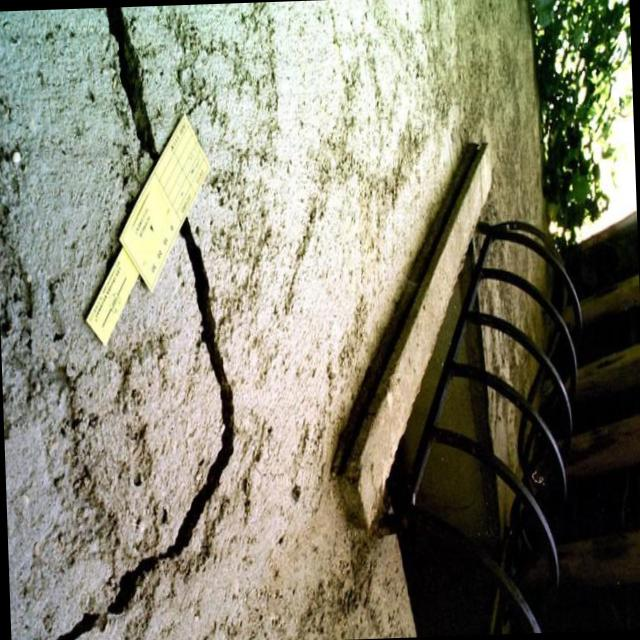crack: (105, 225, 239, 619), (105, 9, 162, 158)
